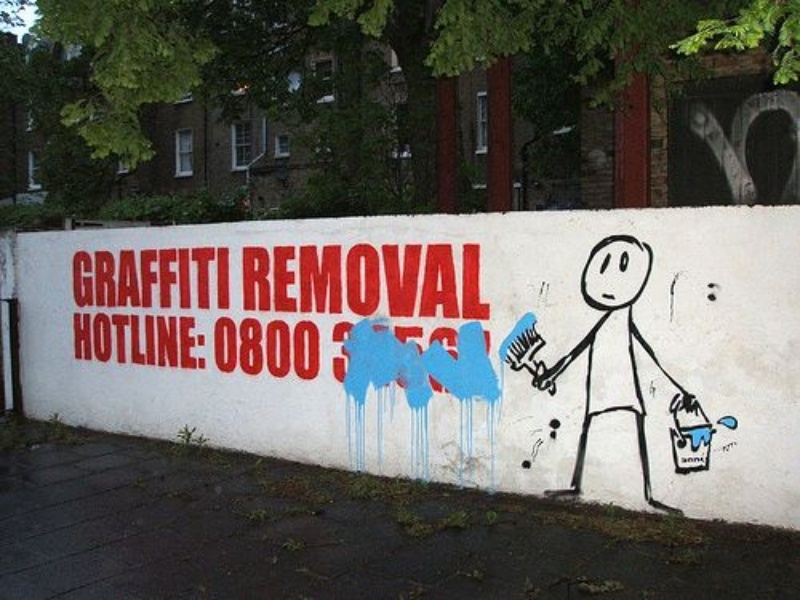text: (241, 242, 256, 322), (257, 242, 272, 322), (273, 242, 288, 322), (289, 242, 304, 322), (305, 242, 320, 322), (321, 242, 336, 322), (337, 242, 352, 322), (353, 242, 368, 322), (369, 242, 384, 322), (385, 242, 400, 322), (401, 242, 416, 322), (417, 242, 432, 322), (433, 242, 448, 322), (449, 242, 464, 322), (465, 242, 480, 322), (401, 325, 416, 396), (417, 325, 432, 396), (433, 325, 448, 396), (81, 245, 96, 311), (97, 245, 112, 311), (113, 245, 128, 311), (129, 245, 144, 311), (145, 245, 160, 311), (161, 245, 176, 311), (177, 245, 192, 311), (193, 245, 208, 311), (209, 245, 224, 311), (337, 319, 352, 385), (225, 317, 240, 380), (241, 317, 256, 380), (257, 317, 272, 380), (273, 317, 288, 380), (289, 317, 304, 380), (305, 317, 320, 380), (81, 313, 96, 372), (97, 313, 112, 372), (113, 313, 128, 372), (129, 313, 144, 372), (145, 313, 160, 372), (161, 313, 176, 372), (177, 313, 192, 372), (481, 242, 492, 322), (449, 325, 461, 396), (193, 313, 207, 372), (353, 319, 365, 385), (212, 317, 224, 380), (73, 245, 80, 311), (225, 245, 232, 311), (394, 325, 400, 396), (73, 313, 80, 372), (332, 319, 336, 385), (689, 455, 704, 466), (679, 455, 688, 466), (321, 317, 322, 380), (705, 455, 706, 466)
